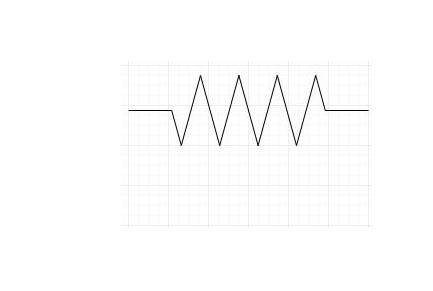resistor: (153, 63, 340, 148)
